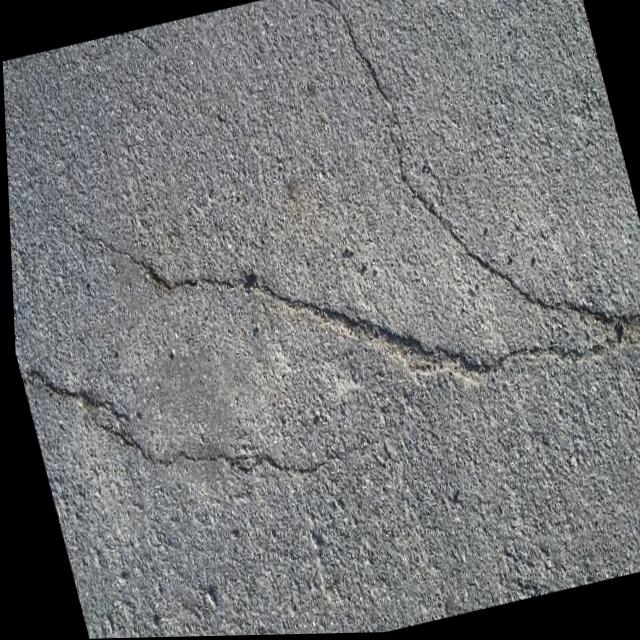Crack: (75, 111, 640, 483), (308, 0, 640, 399), (10, 270, 393, 542)
